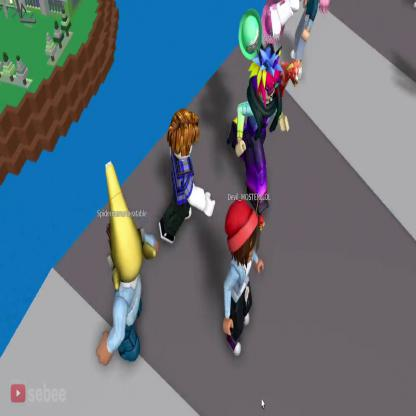Roblox-Avatar: (97, 162, 160, 367), (237, 44, 290, 216), (160, 109, 217, 245), (224, 200, 265, 358), (292, 1, 332, 81)
